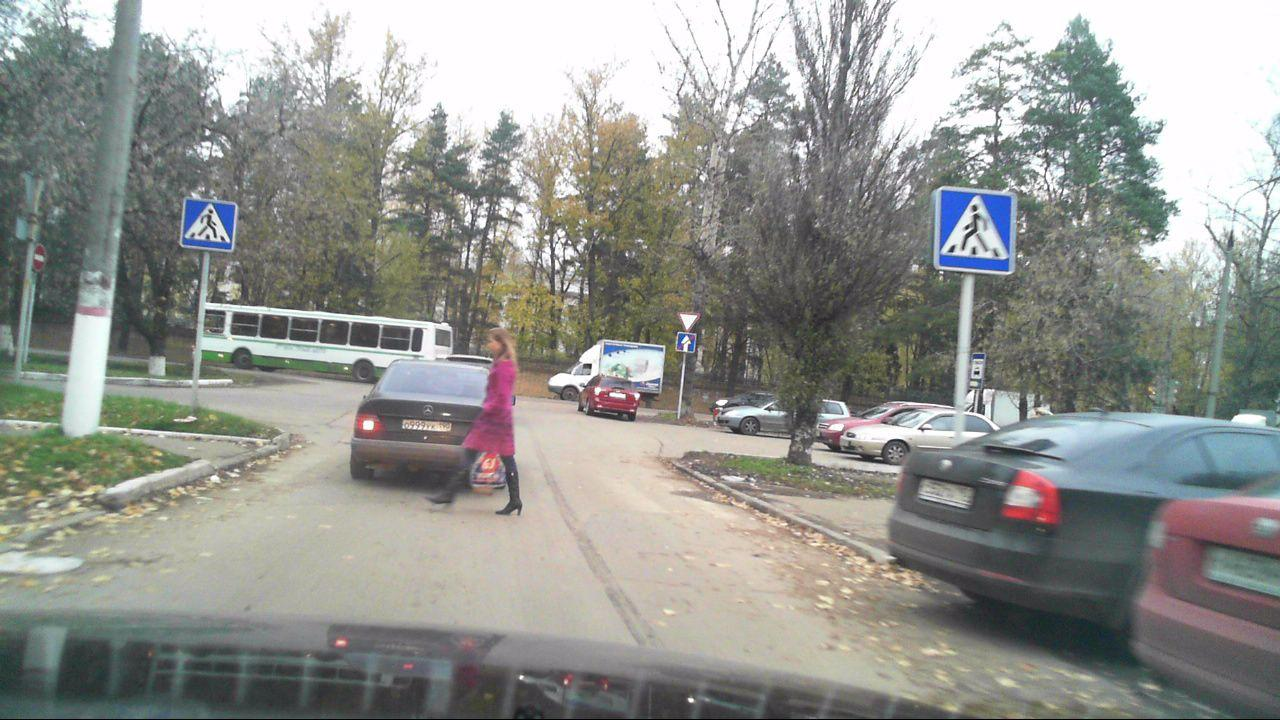road_sign: (937, 184, 1018, 275), (180, 195, 239, 253), (675, 330, 698, 354), (678, 310, 701, 332)
